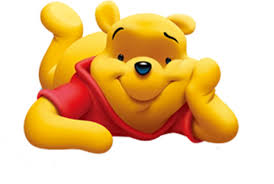Winnie: (91, 2, 204, 148)
